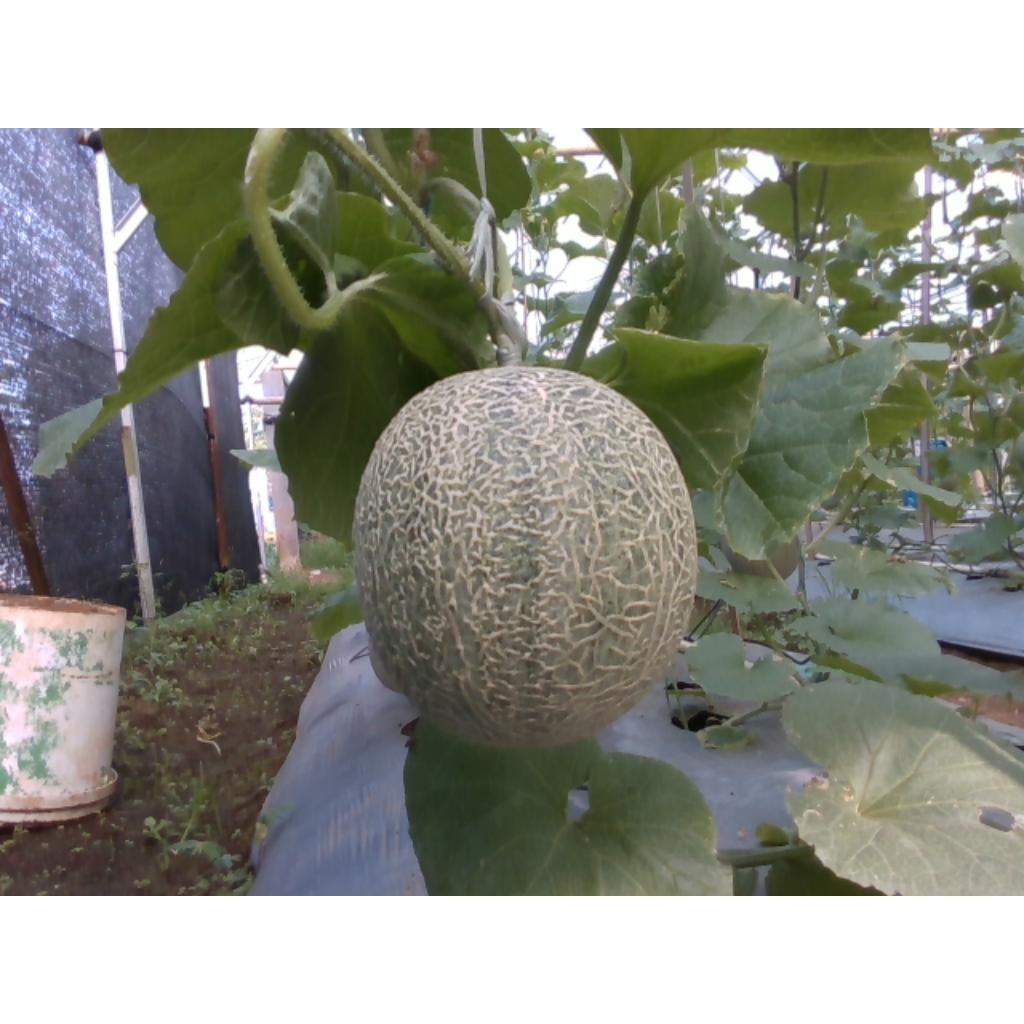melon: (354, 366, 698, 749)
